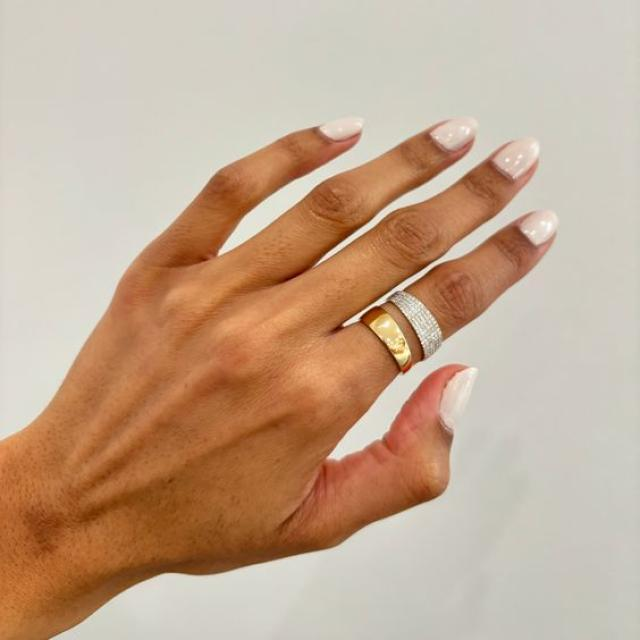Fingernail: (438, 368, 474, 433), (490, 139, 542, 181), (429, 118, 476, 152), (520, 211, 560, 246), (318, 116, 361, 142)
